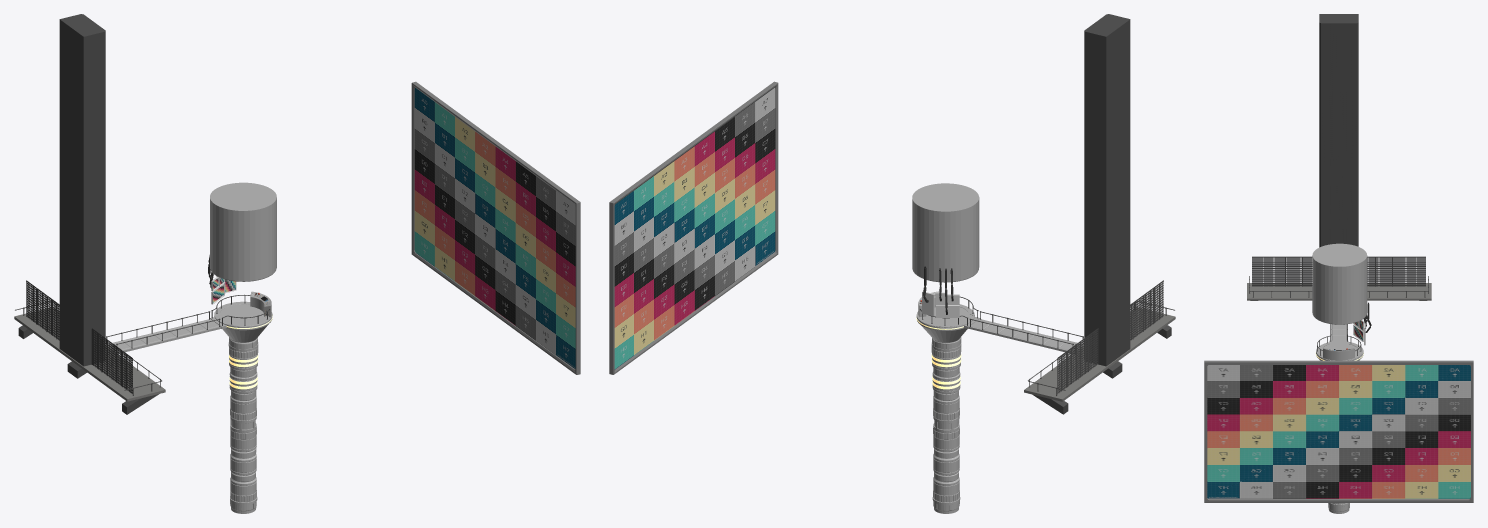
Rendered from controlroom_low_v04.glb.
3 renders of one model, left to right at view 1: azimuth 30°, elevation 25°; view 2: azimuth 150°, elevation 25°; view 3: azimuth 270°, elevation 25°, orthographic. The views are drawn at different scales.
Parts seen in each view (by area): view 1: Room, Portal, TV_frame; view 2: Room, Portal, TV_frame; view 3: Portal, Room, TV_frame, Panel.
Part boxes in pixels (<box>): Room: <box>14,14,276,513</box>; Portal: <box>414,87,575,369</box>; TV_frame: <box>411,81,580,374</box>; Room: <box>912,14,1175,513</box>; Portal: <box>614,87,775,369</box>; TV_frame: <box>609,81,778,374</box>; Portal: <box>1207,365,1470,498</box>; Room: <box>1247,14,1431,513</box>; TV_frame: <box>1204,360,1473,502</box>; Panel: <box>1323,348,1354,360</box>.
Bounding box in the file's own units: 33.37 × 38.87 × 22.22.
32 materials, 5 textured.
